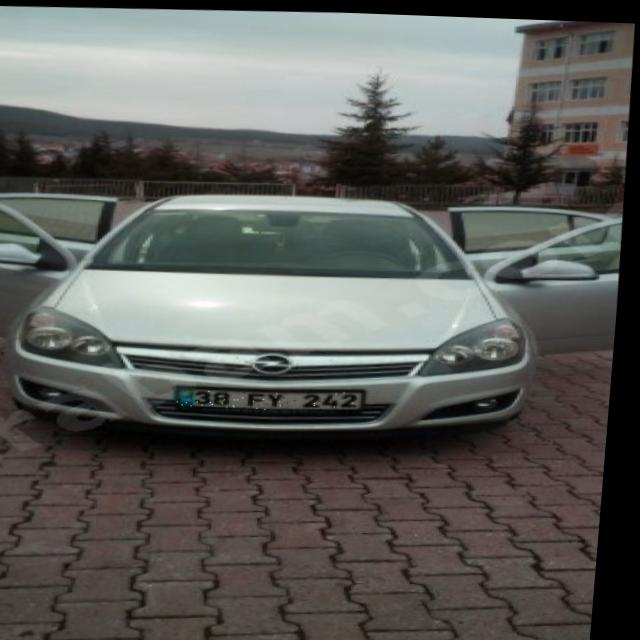license_plate: (181, 381, 370, 411)
